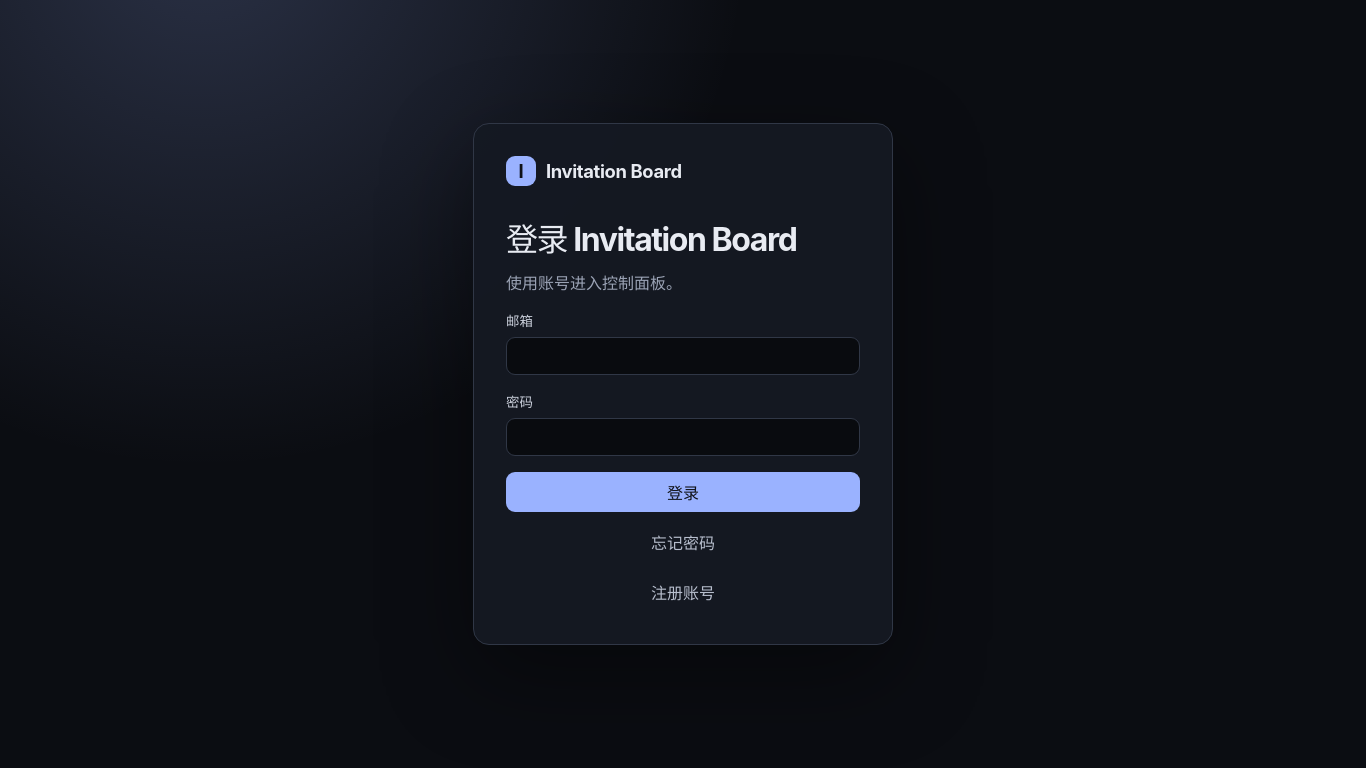
Scenario: App public identity bootstrap › requires and submits the legacy invitation field when forced
The image size is (1366, 768).
Click the button "注册账号".
click(683, 592)  # box [506,572,860,612]
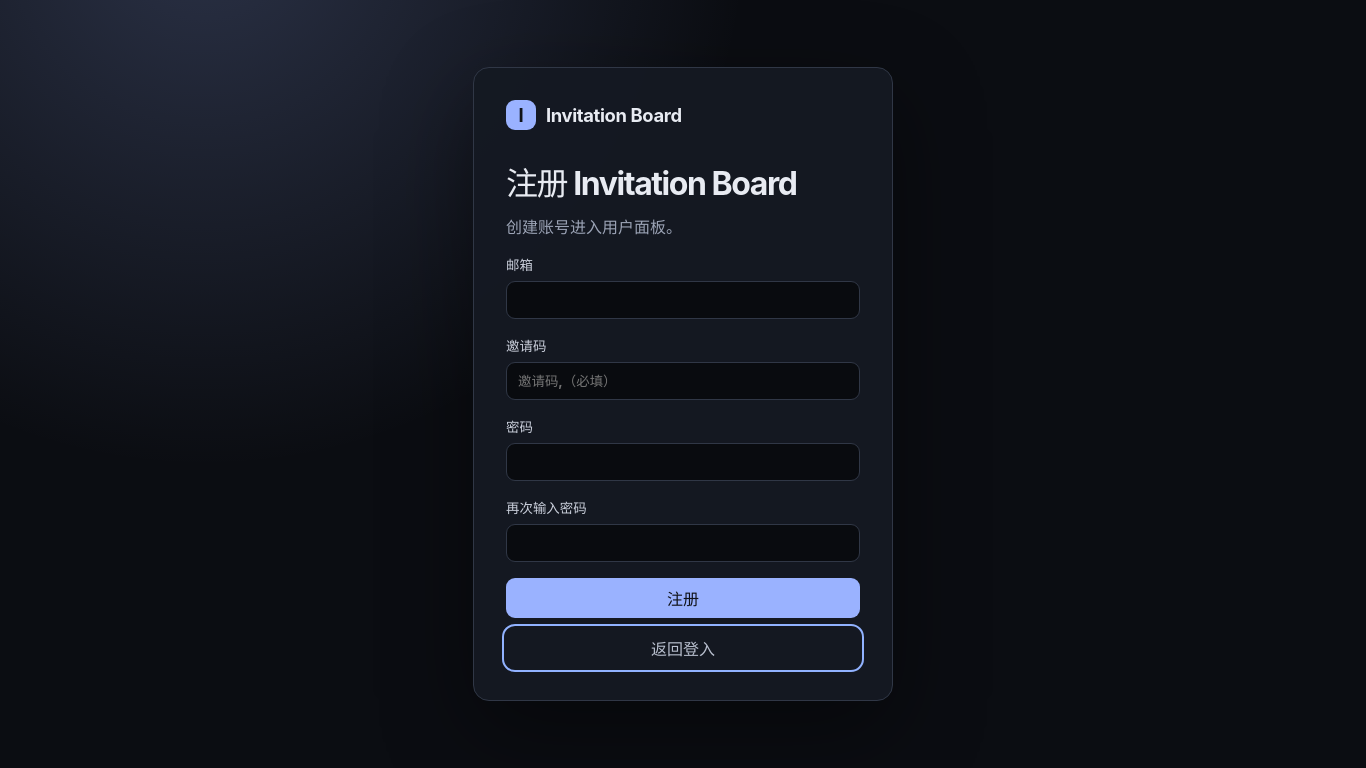
Type "invited@example.test" into the field labelled "邮箱".
click(683, 300); type("invited@example.test")  # box [506,281,860,319]
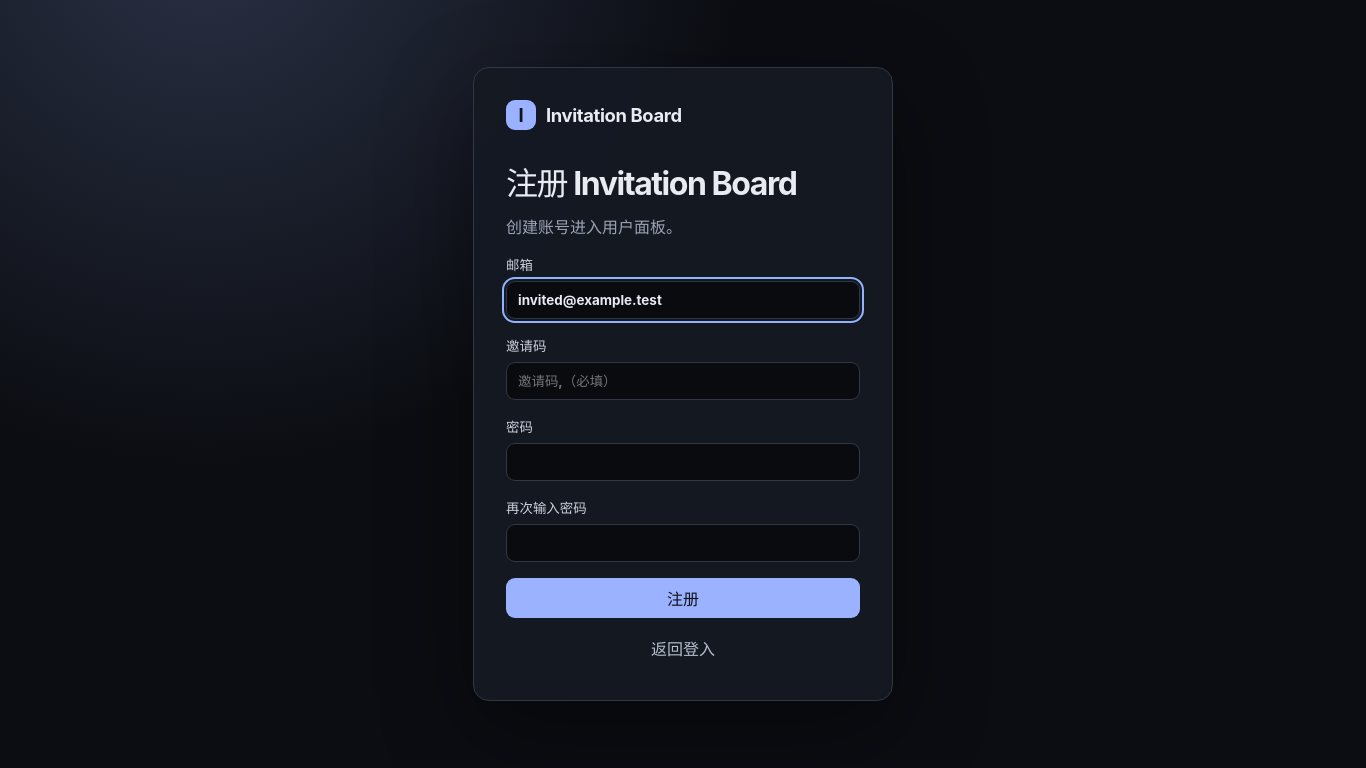
Type "Abcd1234" into the field labelled "邀请码".
click(683, 381); type("Abcd1234")  # box [506,362,860,400]
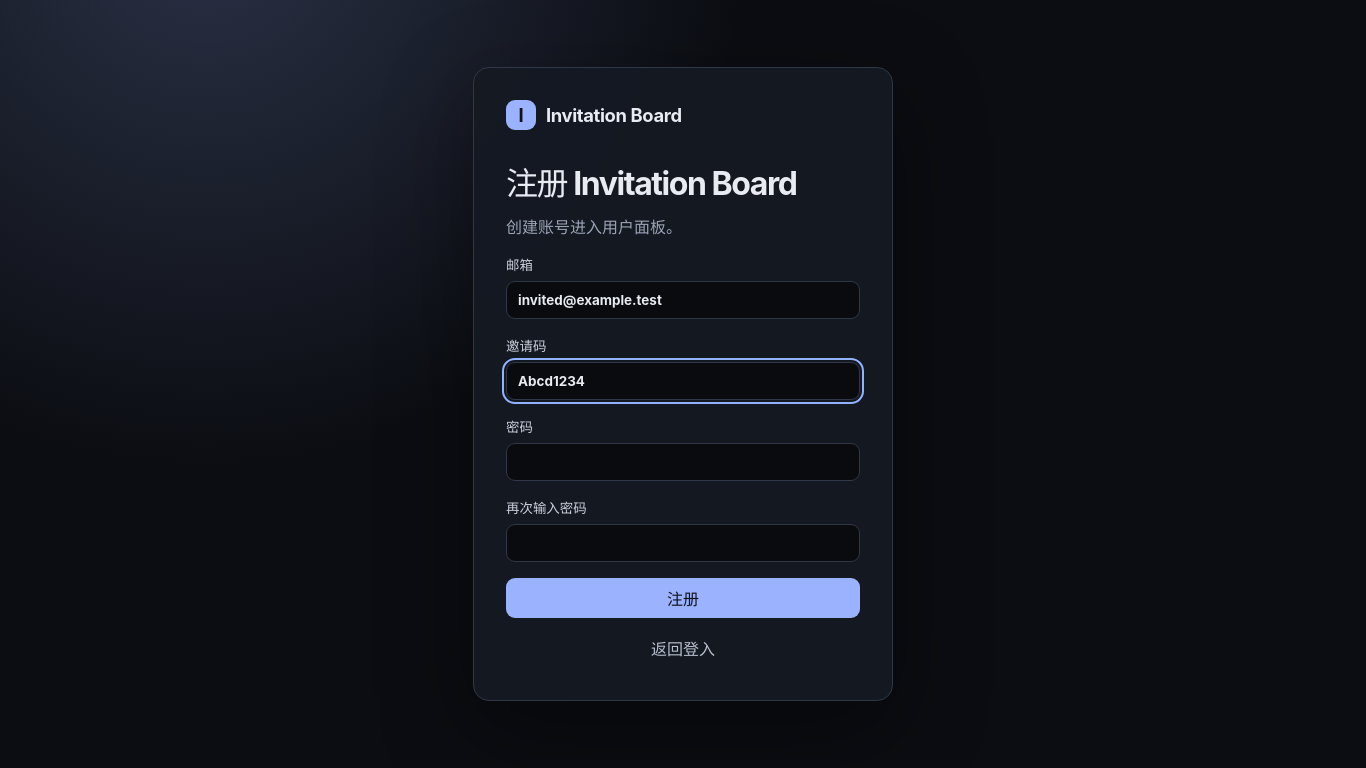
Type "password-123" into the password field labelled "密码".
click(683, 462); type("password-123")  # box [506,443,860,481]
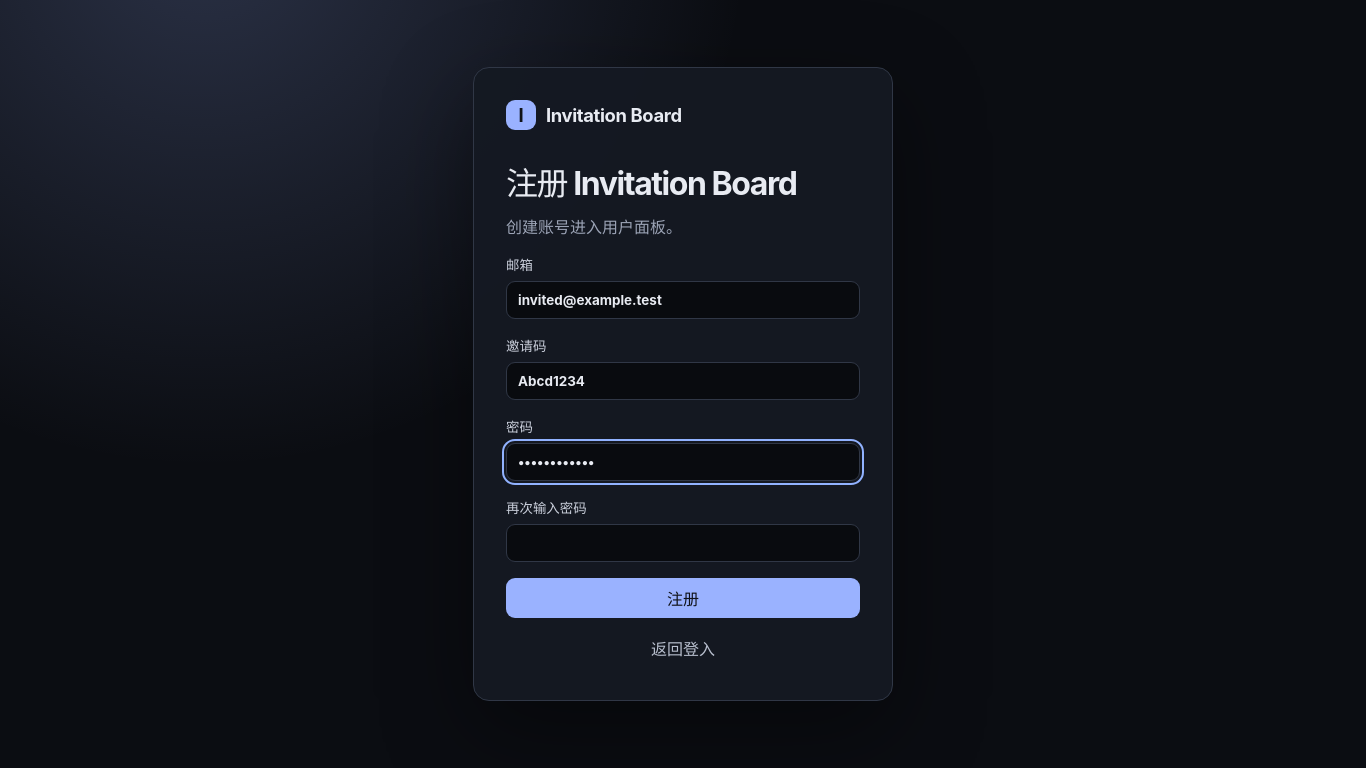
Type "password-123" into the password field labelled "再次输入密码".
click(683, 543); type("password-123")  # box [506,524,860,562]
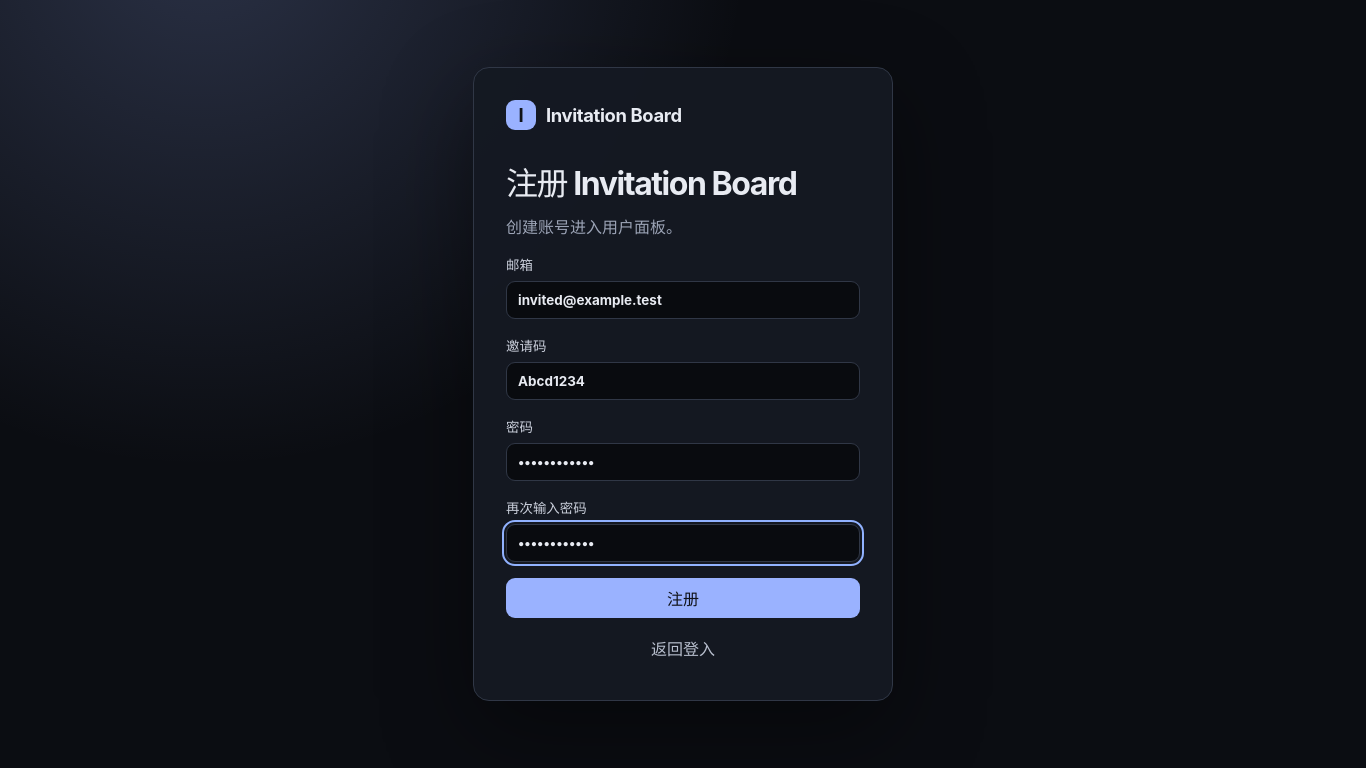
Click the button "注册".
click(683, 598)  # box [506,578,860,618]
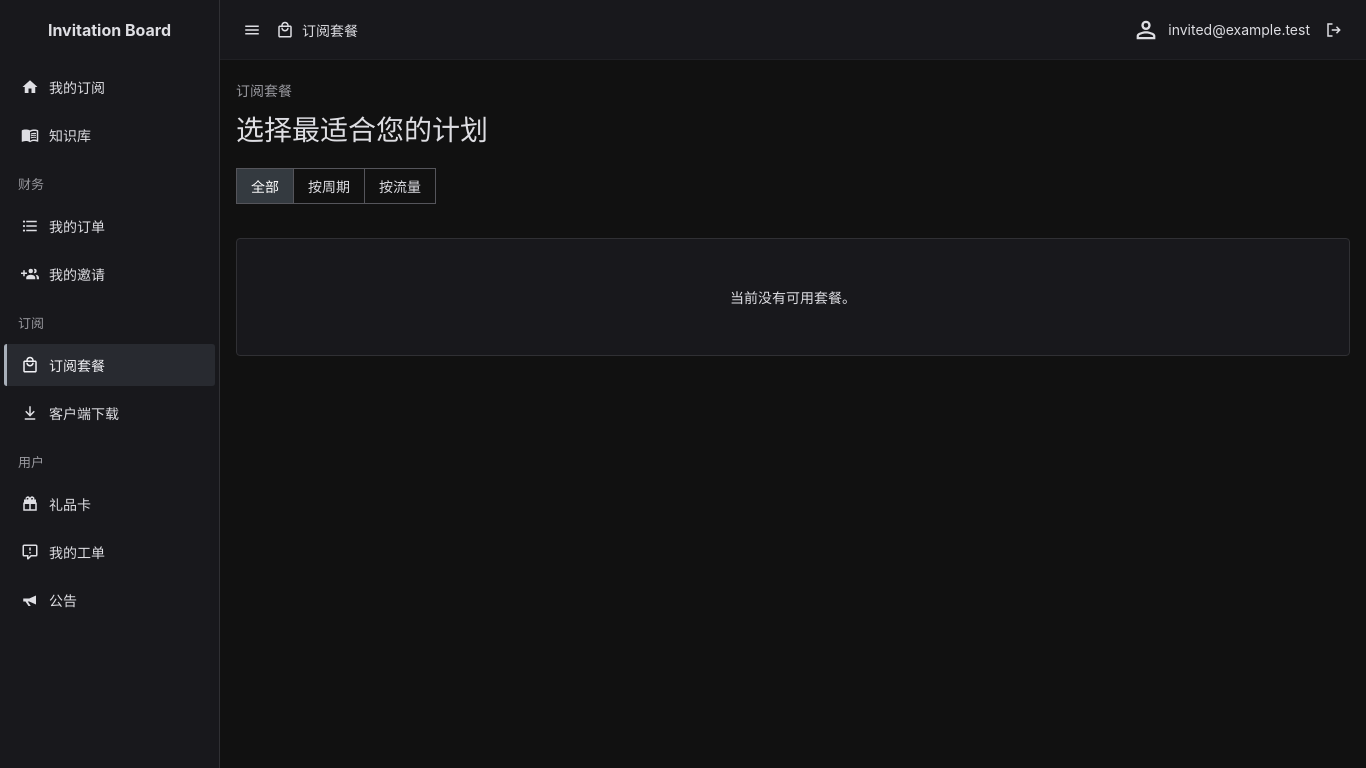
Expected: the text "invited@example.test" is shown, [1168,21,1310,38]
